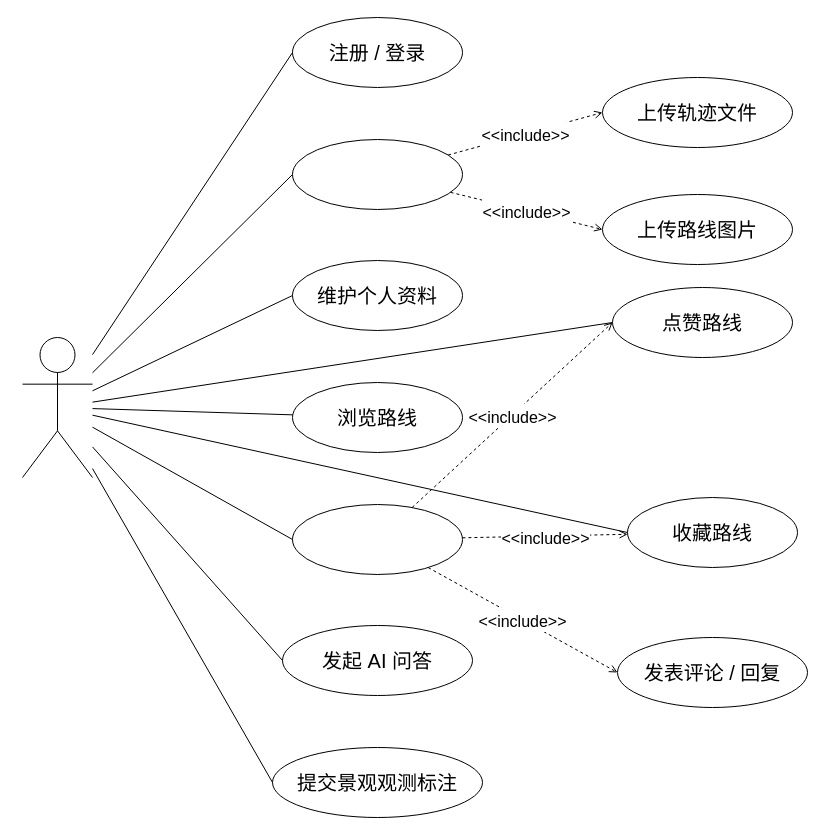
The diagram is 825 pixels wide and 835 high, and some of its shapes have lost their labels. Here are the shapes that lost their labels. From the top down, the centre of each, then its label:
the point at 377,174: 发布路线
the point at 57,407: 普通用户
the point at 377,539: 查看路线详情
